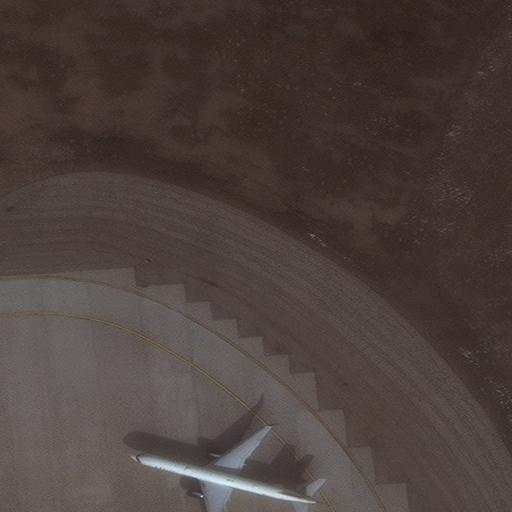Large Civil Transport: (130, 425, 318, 512)
